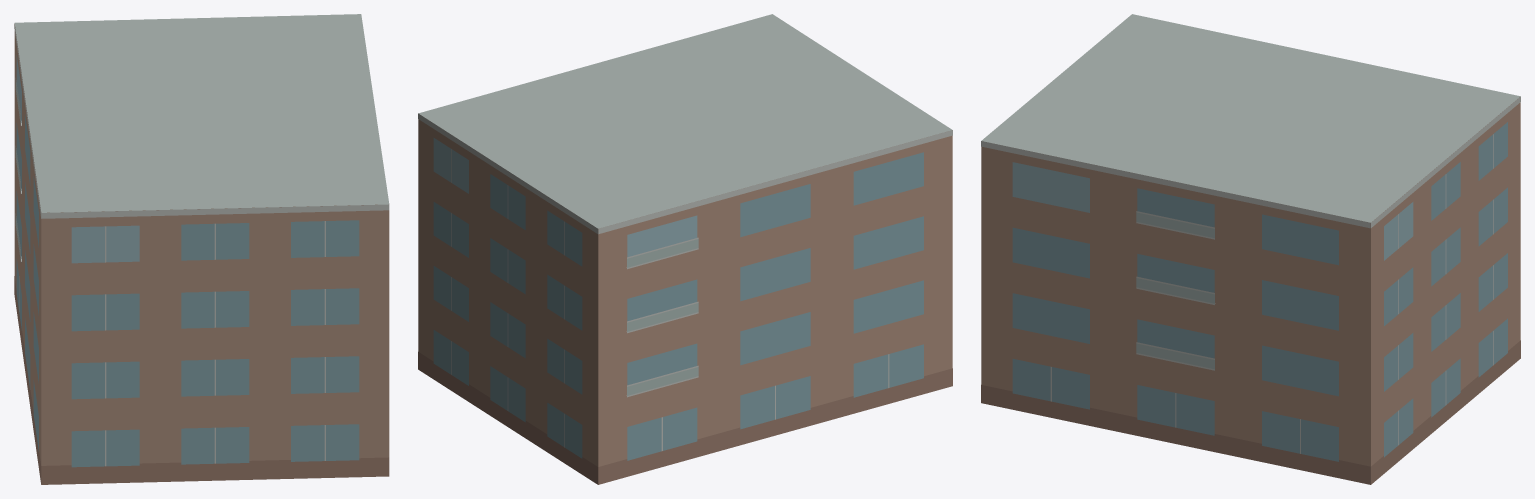
The model's file is survey-upis-32956497.glb.
3 renders of one model, left to right at view 1: azimuth 30°, elevation 25°; view 2: azimuth 150°, elevation 25°; view 3: azimuth 270°, elevation 25°, orthographic. The views are drawn at different scales.
Visible parts, largest first — view 1: survey-upis-32956497.tmp; view 2: survey-upis-32956497.tmp; view 3: survey-upis-32956497.tmp.
Boxes of the visible parts, x1=… form: survey-upis-32956497.tmp: x1=14, y1=14, x2=389, y2=484; survey-upis-32956497.tmp: x1=418, y1=14, x2=952, y2=484; survey-upis-32956497.tmp: x1=981, y1=14, x2=1520, y2=484.
Bounding box in the file's own units: 19.22 × 11.25 × 21.
